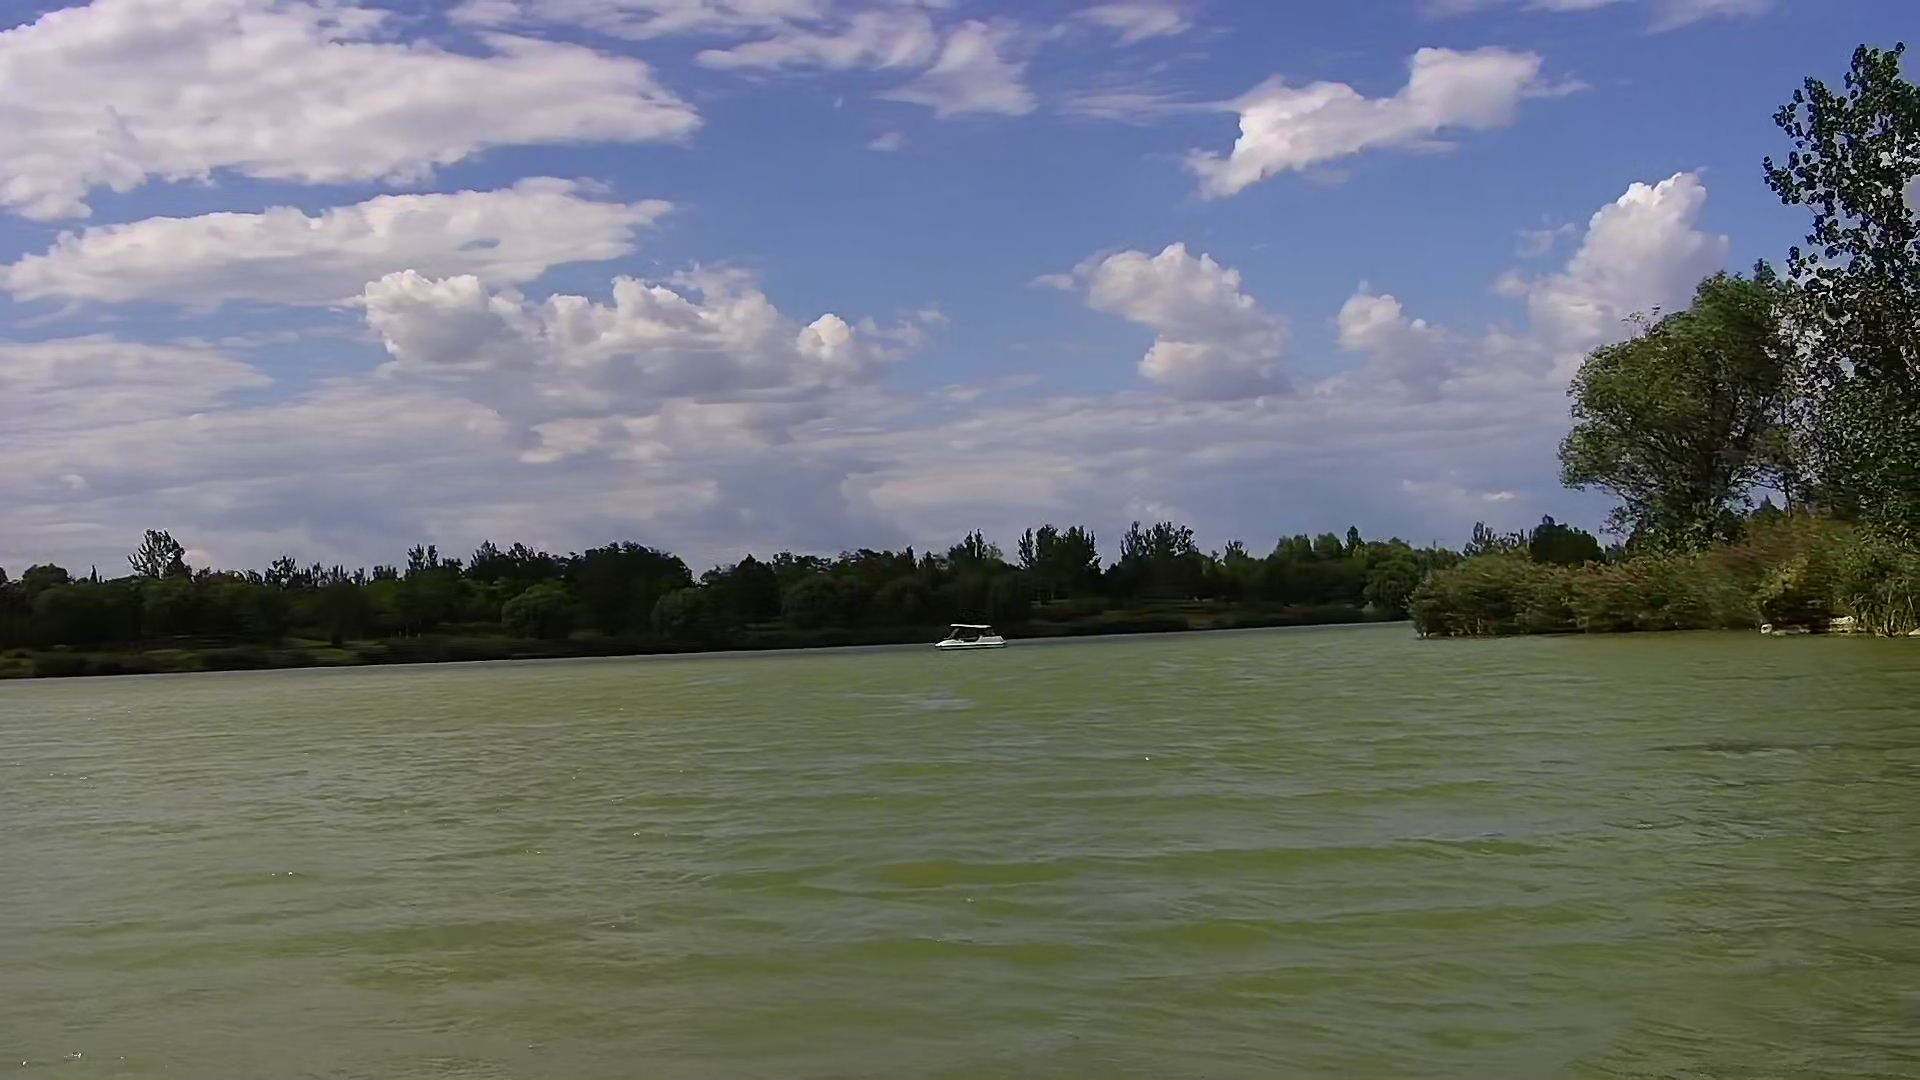boat: (928, 620, 1004, 649)
